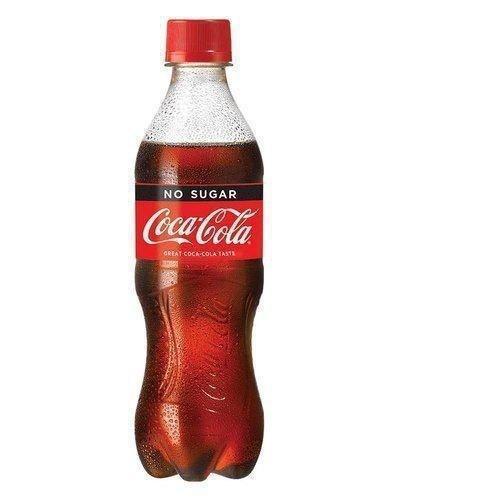bottle-plastic: (131, 14, 269, 488)
